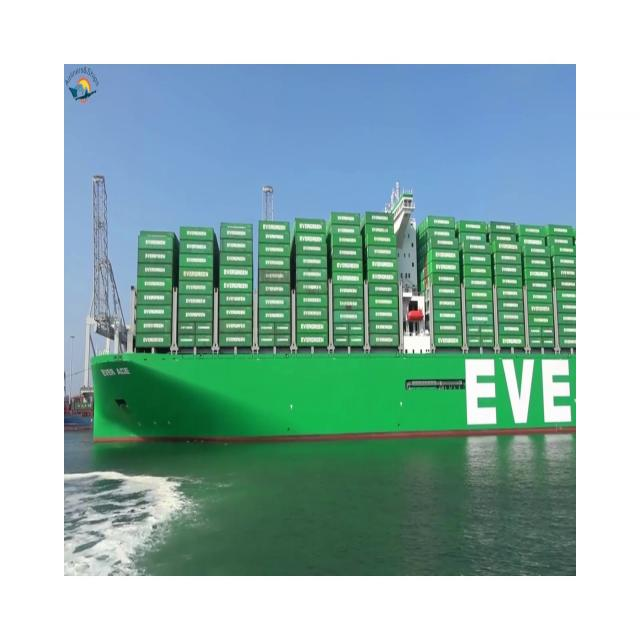OCR: (458, 342, 573, 450), (98, 358, 129, 382)
